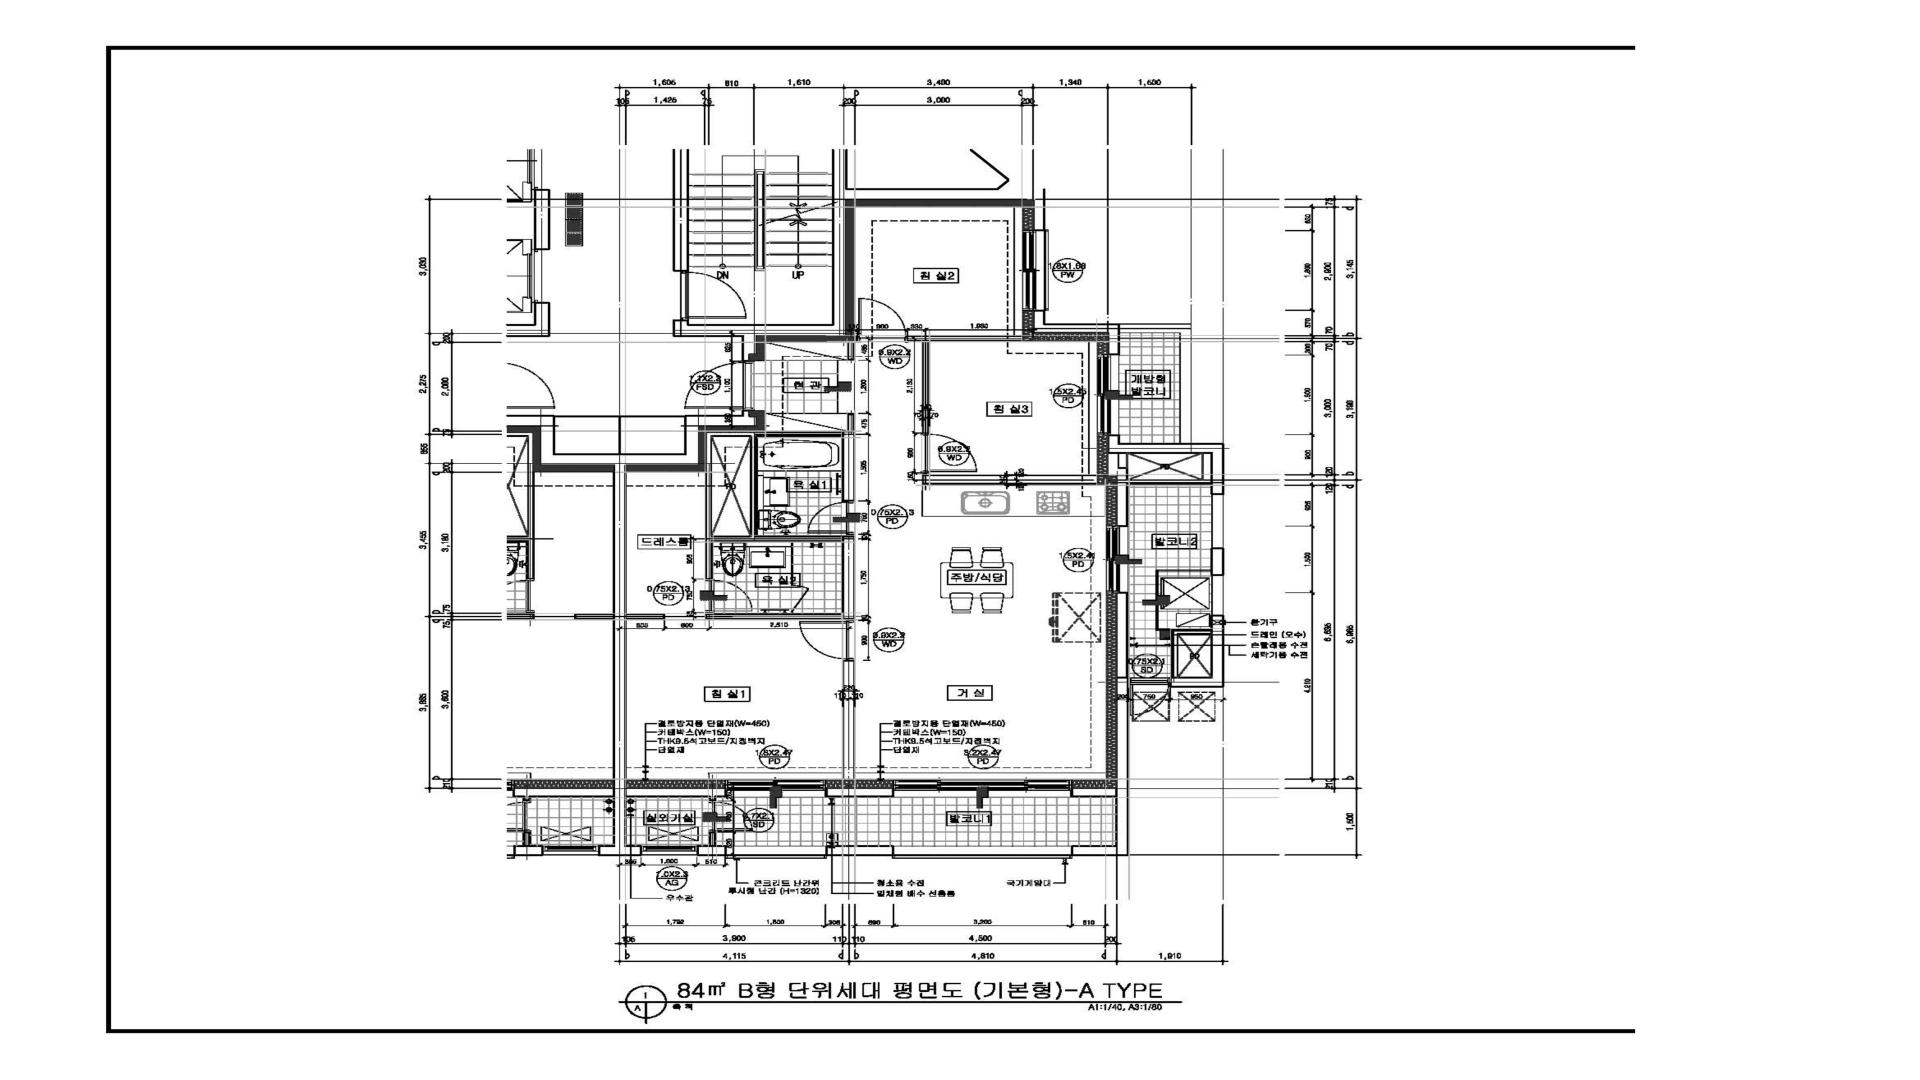door: (683, 360, 754, 410), (680, 272, 748, 319), (922, 435, 978, 475), (798, 620, 855, 659), (856, 298, 907, 342), (807, 501, 855, 535), (705, 579, 753, 613), (1129, 678, 1170, 716), (708, 800, 753, 832)
wall: (506, 410, 757, 856), (673, 149, 1046, 360), (1072, 593, 1129, 856), (1109, 435, 1224, 495), (1170, 616, 1224, 687), (1034, 311, 1120, 355), (673, 149, 690, 272), (1171, 629, 1211, 676), (922, 475, 1097, 485), (1109, 454, 1129, 526), (843, 659, 855, 778), (907, 330, 1022, 342), (626, 789, 725, 800), (841, 413, 855, 501), (705, 438, 713, 579), (841, 535, 855, 620), (749, 438, 758, 535), (705, 613, 841, 620), (705, 431, 841, 438), (712, 535, 841, 542), (827, 845, 893, 856), (825, 789, 894, 798), (922, 342, 928, 435), (1129, 479, 1211, 484), (1072, 789, 1116, 798), (1211, 549, 1224, 575), (696, 845, 725, 856), (626, 613, 665, 620), (848, 340, 855, 360), (708, 831, 716, 845)
window: (894, 779, 1072, 798), (893, 845, 1072, 858), (1022, 229, 1048, 310), (725, 779, 825, 798), (1097, 355, 1120, 435), (1106, 526, 1129, 593), (725, 845, 827, 858), (1211, 495, 1224, 549), (641, 845, 696, 856), (1211, 575, 1224, 616)
